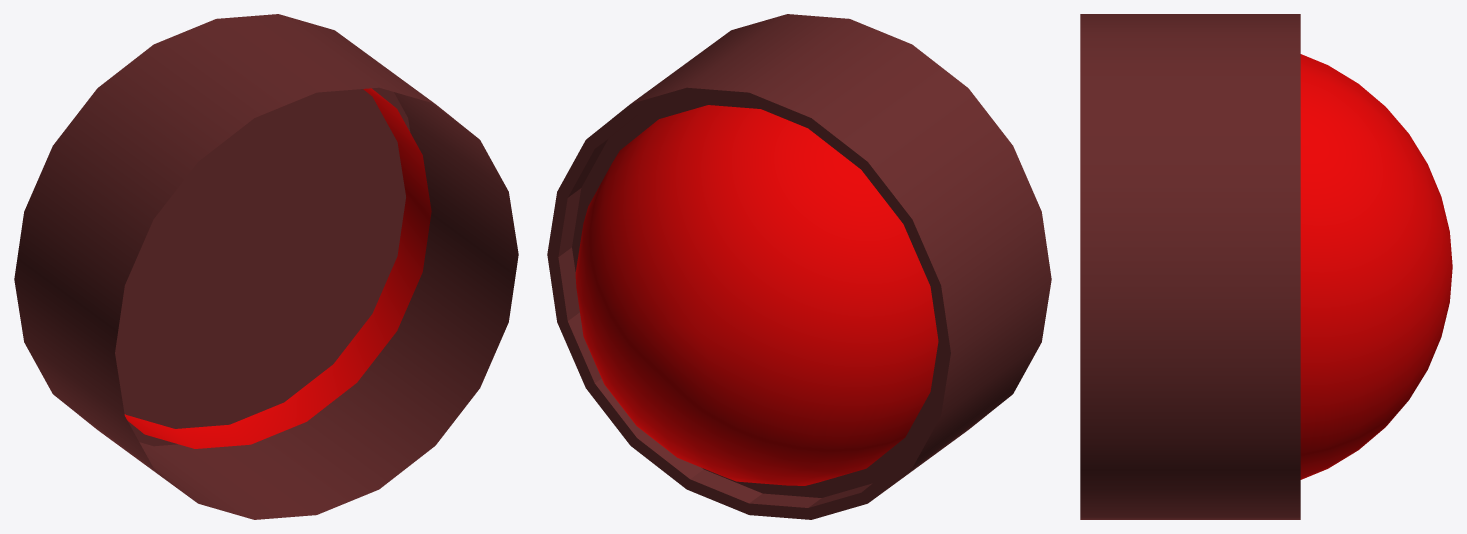
Rendered from Button.fbx.
3 views of the same model, side by side, from view 1: azimuth 30°, elevation 25°; view 2: azimuth 150°, elevation 25°; view 3: azimuth 270°, elevation 25° (orthographic). The views are drawn at different scales.
Parts seen in each view (by area): view 1: pCylinder40, pSphere2; view 2: pSphere2, pCylinder40; view 3: pCylinder40, pSphere2.
Part boxes in pixels (left/top/right/bottom): pCylinder40: left=14, top=14, right=518, bottom=519; pSphere2: left=124, top=88, right=431, bottom=448; pSphere2: left=575, top=105, right=938, bottom=485; pCylinder40: left=547, top=14, right=1051, bottom=519; pCylinder40: left=1080, top=14, right=1300, bottom=519; pSphere2: left=1300, top=54, right=1452, bottom=479.
Size of the model in its own units: 1.46 by 1.46 by 1.07.
